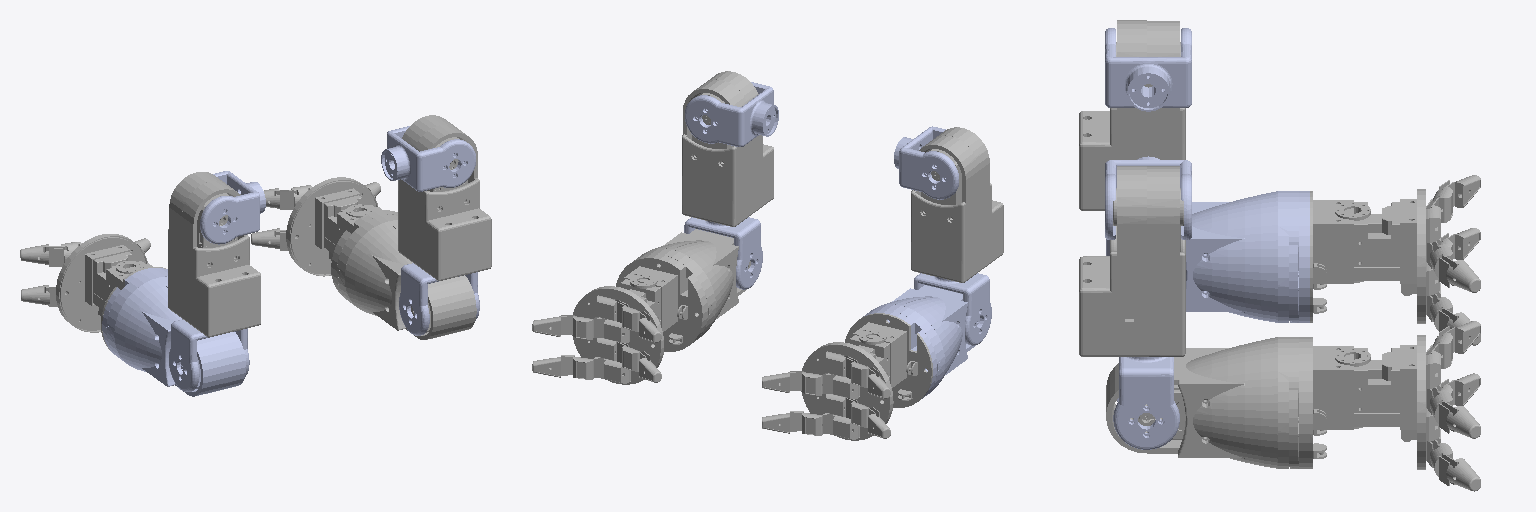
The robot description file, URDF, robot "flov2withhead":
<?xml version="1.0" encoding="utf-8" ?>
<!-- This URDF was automatically created by SolidWorks to URDF Exporter! Originally created by [author] ([email redacted]) 
     Commit Version: 1.6.0-4-g7f85cfe  Build Version: 1.6.7995.38578
     For more information, please see http://wiki.ros.org/sw_urdf_exporter -->
<robot name="flov2withhead">
    <link name="world" />
    <joint name="base_joint" type="fixed">
        <parent link="world" />
        <child link="base_link" />
        <origin rpy="0 0 0" xyz="0.0 0.0 0.1" />
    </joint>
    <link name="base_link">
        <inertial>
            <origin xyz="0.000332986357958864 -0.0490077292447268 0.105556782027294" rpy="0 0 0" />
            <mass value="0.43756903741599" />
            <inertia ixx="0.000780171626162873" ixy="1.78319073788055E-06" ixz="-8.96254823202409E-08" iyy="0.000825845046347988" iyz="4.67149960643232E-05" izz="0.000643184217394053" />
        </inertial>
        <visual>
            <origin xyz="0 0 0" rpy="0 0 0" />
            <geometry>
                <mesh filename="package://flov2withhead/meshes/base_link.STL" />
            </geometry>
            <material name="">
                <color rgba="1 1 1 1" />
            </material>
        </visual>
        <collision>
            <origin xyz="0 0 0" rpy="0 0 0" />
            <geometry>
                <mesh filename="package://flov2withhead/meshes/base_link.STL" />
            </geometry>
        </collision>
    </link>
    <link name="right_up_joint">
        <inertial>
            <origin xyz="-2.91433543964104E-16 2.85966278434913E-10 -0.0157092650737859" rpy="0 0 0" />
            <mass value="0.0208133461311658" />
            <inertia ixx="6.27974950942356E-06" ixy="-1.309072641164E-11" ixz="-1.33567837580187E-19" iyy="1.11423798107525E-05" iyz="4.94677580335037E-14" izz="8.21355248400432E-06" />
        </inertial>
        <visual>
            <origin xyz="0 0 0" rpy="0 0 0" />
            <geometry>
                <mesh filename="package://flov2withhead/meshes/right_up_joint.STL" />
            </geometry>
            <material name="">
                <color rgba="0.792156862745098 0.819607843137255 0.933333333333333 1" />
            </material>
        </visual>
        <collision>
            <origin xyz="0 0 0" rpy="0 0 0" />
            <geometry>
                <mesh filename="package://flov2withhead/meshes/right_up_joint.STL" />
            </geometry>
        </collision>
    </link>
    <joint name="r1" type="revolute">
        <origin xyz="0.093161 -0.051062 0.13081" rpy="1.5708 0 1.5708" />
        <parent link="base_link" />
        <child link="right_up_joint" />
        <axis xyz="0 0 1" />
        <limit lower="-3.14" upper="3.14" effort="100" velocity="1" />
    </joint>
    <link name="right_up_arm">
        <inertial>
            <origin xyz="0.0373903260955438 6.01721482870188E-05 -0.00541151025560823" rpy="0 0 0" />
            <mass value="0.142004365290477" />
            <inertia ixx="3.19807239576316E-05" ixy="-4.35320002639266E-08" ixz="2.24405433812137E-06" iyy="6.16421105939791E-05" iyz="9.81629533551443E-10" izz="6.84742764155622E-05" />
        </inertial>
        <visual>
            <origin xyz="0 0 0" rpy="0 0 0" />
            <geometry>
                <mesh filename="package://flov2withhead/meshes/right_up_arm.STL" />
            </geometry>
            <material name="">
                <color rgba="0.752941176470588 0.752941176470588 0.752941176470588 1" />
            </material>
        </visual>
        <collision>
            <origin xyz="0 0 0" rpy="0 0 0" />
            <geometry>
                <mesh filename="package://flov2withhead/meshes/right_up_arm.STL" />
            </geometry>
        </collision>
    </link>
    <joint name="r2" type="revolute">
        <origin xyz="0 0 0" rpy="-1.5708 0 -1.5708" />
        <parent link="right_up_joint" />
        <child link="right_up_arm" />
        <axis xyz="0 0 -1" />
        <limit lower="-3.14" upper="3.14" effort="100" velocity="1" />
    </joint>
    <link name="right_low_joint">
        <inertial>
            <origin xyz="5.09595365905113E-10 7.24041483018967E-10 -0.0157092653420774" rpy="0 0 0" />
            <mass value="0.0208133468453591" />
            <inertia ixx="6.27974968154285E-06" ixy="-1.32343047836009E-11" ixz="8.95774143766885E-14" iyy="1.11423800240112E-05" iyz="1.27944096161508E-13" izz="8.2135527700594E-06" />
        </inertial>
        <visual>
            <origin xyz="0 0 0" rpy="0 0 0" />
            <geometry>
                <mesh filename="package://flov2withhead/meshes/right_low_joint.STL" />
            </geometry>
            <material name="">
                <color rgba="0.792156862745098 0.819607843137255 0.933333333333333 1" />
            </material>
        </visual>
        <collision>
            <origin xyz="0 0 0" rpy="0 0 0" />
            <geometry>
                <mesh filename="package://flov2withhead/meshes/right_low_joint.STL" />
            </geometry>
        </collision>
    </link>
    <joint name="r3" type="revolute">
        <origin xyz="0.1168 0 -0.001" rpy="-1.5708 3.1416 -1.5708" />
        <parent link="right_up_arm" />
        <child link="right_low_joint" />
        <axis xyz="0 0 1" />
        <limit lower="-3.14" upper="3.14" effort="100" velocity="1" />
    </joint>
    <link name="right_low_arm">
        <inertial>
            <origin xyz="0.000145349481928403 0.0481196277392878 0.00014102129578708" rpy="0 0 0" />
            <mass value="0.18903364369622" />
            <inertia ixx="8.21074310058178E-05" ixy="3.38641336425157E-07" ixz="5.51403520464928E-07" iyy="7.6979741225698E-05" iyz="-3.25828337646132E-09" izz="0.000103326261719523" />
        </inertial>
        <visual>
            <origin xyz="0 0 0" rpy="0 0 0" />
            <geometry>
                <mesh filename="package://flov2withhead/meshes/right_low_arm.STL" />
            </geometry>
            <material name="">
                <color rgba="0.752941176470588 0.752941176470588 0.752941176470588 1" />
            </material>
        </visual>
        <collision>
            <origin xyz="0 0 0" rpy="0 0 0" />
            <geometry>
                <mesh filename="package://flov2withhead/meshes/right_low_arm.STL" />
            </geometry>
        </collision>
    </link>
    <joint name="r4" type="revolute">
        <origin xyz="0 0 0" rpy="0 -1.5708 0" />
        <parent link="right_low_joint" />
        <child link="right_low_arm" />
        <axis xyz="0 0 -1" />
        <limit lower="-3.14" upper="3.14" effort="100" velocity="1" />
    </joint>
    <link name="right_gripper">
        <inertial>
            <origin xyz="0.00394028289479387 0.00064862667470067 -0.0216328066989445" rpy="0 0 0" />
            <mass value="0.103299324219439" />
            <inertia ixx="2.0963004369683E-05" ixy="2.90752267814511E-08" ixz="-3.12167035365807E-07" iyy="1.89319959235232E-05" iyz="1.75561004581691E-08" izz="2.33522908570637E-05" />
        </inertial>
        <visual>
            <origin xyz="0 0 0" rpy="0 0 0" />
            <geometry>
                <mesh filename="package://flov2withhead/meshes/right_gripper.STL" />
            </geometry>
            <material name="">
                <color rgba="0.752941176470588 0.752941176470588 0.752941176470588 1" />
            </material>
        </visual>
        <collision>
            <origin xyz="0 0 0" rpy="0 0 0" />
            <geometry>
                <mesh filename="package://flov2withhead/meshes/right_gripper.STL" />
            </geometry>
        </collision>
    </link>
    <joint name="r5" type="fixed">
        <origin xyz="-0.00025 0.15114 -0.0005" rpy="1.5708 0 -3.1416" />
        <parent link="right_low_arm" />
        <child link="right_gripper" />
        <axis xyz="0 0 0" />
    </joint>
    <link name="left_up_joint">
        <inertial>
            <origin xyz="-5.09595414477371E-10 -7.24041493427308E-10 -0.0157092653420774" rpy="0 0 0" />
            <mass value="0.0208133468453592" />
            <inertia ixx="6.27974968154286E-06" ixy="-1.32343047800843E-11" ixz="-8.95773981717079E-14" iyy="1.11423800240112E-05" iyz="-1.27944099168652E-13" izz="8.2135527700594E-06" />
        </inertial>
        <visual>
            <origin xyz="0 0 0" rpy="0 0 0" />
            <geometry>
                <mesh filename="package://flov2withhead/meshes/left_up_joint.STL" />
            </geometry>
            <material name="">
                <color rgba="0.792156862745098 0.819607843137255 0.933333333333333 1" />
            </material>
        </visual>
        <collision>
            <origin xyz="0 0 0" rpy="0 0 0" />
            <geometry>
                <mesh filename="package://flov2withhead/meshes/left_up_joint.STL" />
            </geometry>
        </collision>
    </link>
    <joint name="l1" type="revolute">
        <origin xyz="-0.093439 -0.051062 0.13073" rpy="-1.5708 0 1.5708" />
        <parent link="base_link" />
        <child link="left_up_joint" />
        <axis xyz="0 0 1" />
        <limit lower="-3.14" upper="3.14" effort="100" velocity="1" />
    </joint>
    <link name="left_up_arm">
        <inertial>
            <origin xyz="0.0373903260955436 6.01721482860196E-05 -0.00541151025560805" rpy="0 0 0" />
            <mass value="0.142004365290478" />
            <inertia ixx="3.19807239576317E-05" ixy="-4.35320002639321E-08" ixz="2.24405433812145E-06" iyy="6.16421105939794E-05" iyz="9.81629533563045E-10" izz="6.84742764155626E-05" />
        </inertial>
        <visual>
            <origin xyz="0 0 0" rpy="0 0 0" />
            <geometry>
                <mesh filename="package://flov2withhead/meshes/left_up_arm.STL" />
            </geometry>
            <material name="">
                <color rgba="0.752941176470588 0.752941176470588 0.752941176470588 1" />
            </material>
        </visual>
        <collision>
            <origin xyz="0 0 0" rpy="0 0 0" />
            <geometry>
                <mesh filename="package://flov2withhead/meshes/left_up_arm.STL" />
            </geometry>
        </collision>
    </link>
    <joint name="l2" type="revolute">
        <origin xyz="0 0 0" rpy="1.5708 0 1.5708" />
        <parent link="left_up_joint" />
        <child link="left_up_arm" />
        <axis xyz="0 0 -1" />
        <limit lower="-3.14" upper="3.14" effort="100" velocity="1" />
    </joint>
    <link name="left_low_joint">
        <inertial>
            <origin xyz="3.33066907387547E-16 -2.85966288843253E-10 -0.0157092652592568" rpy="0 0 0" />
            <mass value="0.020813346595942" />
            <inertia ixx="6.27974962192809E-06" ixy="-1.299668323255E-11" ixz="1.37075684826591E-19" iyy="1.11423799559868E-05" iyz="-4.94677647665731E-14" izz="8.21355267329983E-06" />
        </inertial>
        <visual>
            <origin xyz="0 0 0" rpy="0 0 0" />
            <geometry>
                <mesh filename="package://flov2withhead/meshes/left_low_joint.STL" />
            </geometry>
            <material name="">
                <color rgba="0.792156862745098 0.819607843137255 0.933333333333333 1" />
            </material>
        </visual>
        <collision>
            <origin xyz="0 0 0" rpy="0 0 0" />
            <geometry>
                <mesh filename="package://flov2withhead/meshes/left_low_joint.STL" />
            </geometry>
        </collision>
    </link>
    <joint name="l3" type="revolute">
        <origin xyz="0.1168 0 -0.001" rpy="-1.5708 -0.00041194 -1.5708" />
        <parent link="left_up_arm" />
        <child link="left_low_joint" />
        <axis xyz="0 0 1" />
        <limit lower="-3.14" upper="3.14" effort="100" velocity="1" />
    </joint>
    <link name="left_low_arm">
        <inertial>
            <origin xyz="0.043346958830631 0.00142716576173002 0.000127034419044603" rpy="0 0 0" />
            <mass value="0.209846986735207" />
            <inertia ixx="8.81221220824941E-05" ixy="-3.38638689228225E-07" ixz="-3.24430454510159E-09" iyy="9.03209751186225E-05" iyz="-5.5140270825282E-07" izz="0.000109606003998859" />
        </inertial>
        <visual>
            <origin xyz="0 0 0" rpy="0 0 0" />
            <geometry>
                <mesh filename="package://flov2withhead/meshes/left_low_arm.STL" />
            </geometry>
            <material name="">
                <color rgba="0.792156862745098 0.819607843137255 0.933333333333333 1" />
            </material>
        </visual>
        <collision>
            <origin xyz="0 0 0" rpy="0 0 0" />
            <geometry>
                <mesh filename="package://flov2withhead/meshes/left_low_arm.STL" />
            </geometry>
        </collision>
    </link>
    <joint name="l4" type="revolute">
        <origin xyz="0 0 0" rpy="-1.5708 0 -1.5708" />
        <parent link="left_low_joint" />
        <child link="left_low_arm" />
        <axis xyz="0 0 -1" />
        <limit lower="-3.14" upper="3.14" effort="100" velocity="1" />
    </joint>
    <link name="left_gripper">
        <inertial>
            <origin xyz="0.00394028289446374 -0.0216325376678417 -0.000657538050742756" rpy="0 0 0" />
            <mass value="0.103299324213466" />
            <inertia ixx="2.09630043696132E-05" ixy="-3.12155031601794E-07" ixz="-2.92038185590857E-08" iyy="2.33523045708948E-05" iyz="-1.57351963002981E-08" izz="1.89319822093977E-05" />
        </inertial>
        <visual>
            <origin xyz="0 0 0" rpy="0 0 0" />
            <geometry>
                <mesh filename="package://flov2withhead/meshes/left_gripper.STL" />
            </geometry>
            <material name="">
                <color rgba="0.752941176470588 0.752941176470588 0.752941176470588 1" />
            </material>
        </visual>
        <collision>
            <origin xyz="0 0 0" rpy="0 0 0" />
            <geometry>
                <mesh filename="package://flov2withhead/meshes/left_gripper.STL" />
            </geometry>
        </collision>
    </link>
    <joint name="l5" type="fixed">
        <origin xyz="0.15114 0.00025 -0.0005" rpy="3.1412 0 1.5708" />
        <parent link="left_low_arm" />
        <child link="left_gripper" />
        <axis xyz="0 0 0" />
    </joint>
    <transmission name="left_up_joint_trans">
        <type>transmission_interface/SimpleTransmission</type>
        <joint name="l1">
            <hardwareInterface>hardware_interface/PositionJointInterface</hardwareInterface>
        </joint>
        <actuator name="left_up_joint_motor">
            <hardwareInterface>hardware_interface/PositionJointInterface</hardwareInterface>
            <mechanicalReduction>1</mechanicalReduction>
        </actuator>
    </transmission>
    <transmission name="left_up_arm_trans">
        <type>transmission_interface/SimpleTransmission</type>
        <joint name="l2">
            <hardwareInterface>hardware_interface/PositionJointInterface</hardwareInterface>
        </joint>
        <actuator name="left_up_arm_motor">
            <hardwareInterface>hardware_interface/PositionJointInterface</hardwareInterface>
            <mechanicalReduction>1</mechanicalReduction>
        </actuator>
    </transmission>
    <transmission name="left_low_joint_trans">
        <type>transmission_interface/SimpleTransmission</type>
        <joint name="l3">
            <hardwareInterface>hardware_interface/PositionJointInterface</hardwareInterface>
        </joint>
        <actuator name="left_low_joint_motor">
            <hardwareInterface>hardware_interface/PositionJointInterface</hardwareInterface>
            <mechanicalReduction>1</mechanicalReduction>
        </actuator>
    </transmission>
    <transmission name="left_low_arm_trans">
        <type>transmission_interface/SimpleTransmission</type>
        <joint name="l4">
            <hardwareInterface>hardware_interface/PositionJointInterface</hardwareInterface>
        </joint>
        <actuator name="left_low_arm_motor">
            <hardwareInterface>hardware_interface/PositionJointInterface</hardwareInterface>
            <mechanicalReduction>1</mechanicalReduction>
        </actuator>
    </transmission>
    <transmission name="right_up_joint_trans">
        <type>transmission_interface/SimpleTransmission</type>
        <joint name="r1">
            <hardwareInterface>hardware_interface/PositionJointInterface</hardwareInterface>
        </joint>
        <actuator name="right_up_joint_motor">
            <hardwareInterface>hardware_interface/PositionJointInterface</hardwareInterface>
            <mechanicalReduction>1</mechanicalReduction>
        </actuator>
    </transmission>
    <transmission name="right_up_arm_trans">
        <type>transmission_interface/SimpleTransmission</type>
        <joint name="r2">
            <hardwareInterface>hardware_interface/PositionJointInterface</hardwareInterface>
        </joint>
        <actuator name="right_up_arm_motor">
            <hardwareInterface>hardware_interface/PositionJointInterface</hardwareInterface>
            <mechanicalReduction>1</mechanicalReduction>
        </actuator>
    </transmission>
    <transmission name="right_low_joint_trans">
        <type>transmission_interface/SimpleTransmission</type>
        <joint name="r3">
            <hardwareInterface>hardware_interface/PositionJointInterface</hardwareInterface>
        </joint>
        <actuator name="right_low_joint_motor">
            <hardwareInterface>hardware_interface/PositionJointInterface</hardwareInterface>
            <mechanicalReduction>1</mechanicalReduction>
        </actuator>
    </transmission>
    <transmission name="right_low_arm_trans">
        <type>transmission_interface/SimpleTransmission</type>
        <joint name="r4">
            <hardwareInterface>hardware_interface/PositionJointInterface</hardwareInterface>
        </joint>
        <actuator name="right_low_arm_motor">
            <hardwareInterface>hardware_interface/PositionJointInterface</hardwareInterface>
            <mechanicalReduction>1</mechanicalReduction>
        </actuator>
    </transmission>
    <gazebo>
        <plugin name="control" filename="libgazebo_ros_control.so">
            <robotNamespace>/</robotNamespace>
        </plugin>
        <plugin name="gazebo_ros_control" filename="libgazebo_ros_control.so">
            <robotNamespace>/</robotNamespace>
        </plugin>
    </gazebo>
    <gazebo reference="left_up_joint">
        <selfCollide>true</selfCollide>
    </gazebo>
    <gazebo reference="left_up_arm">
        <selfCollide>true</selfCollide>
    </gazebo>
    <gazebo reference="left_low_joint">
        <selfCollide>true</selfCollide>
    </gazebo>
    <gazebo reference="left_low_arm">
        <selfCollide>true</selfCollide>
    </gazebo>
    <gazebo reference="left_gripper">
        <selfCollide>true</selfCollide>
    </gazebo>
    <gazebo reference="right_up_joint">
        <selfCollide>true</selfCollide>
    </gazebo>
    <gazebo reference="right_up_arm">
        <selfCollide>true</selfCollide>
    </gazebo>
    <gazebo reference="right_low_joint">
        <selfCollide>true</selfCollide>
    </gazebo>
    <gazebo reference="right_low_arm">
        <selfCollide>true</selfCollide>
    </gazebo>
    <gazebo reference="right_gripper">
        <selfCollide>true</selfCollide>
    </gazebo>
</robot>

--- Facts derived from the render (not from the file) ---
The picture shows the robot from 3 angles, left to right: view 1: azimuth 30°, elevation 25°; view 2: azimuth 150°, elevation 25°; view 3: azimuth 270°, elevation 25°; orthographic projection.
Robot: flov2withhead — 12 links, 11 joints (8 revolute, 3 fixed); root link world; default pose: all joints at 0.
Visible links, largest first — view 1: left_up_arm, right_up_arm, left_low_arm, right_low_arm, left_gripper, right_gripper, right_up_joint, left_up_joint, right_low_joint, left_low_joint; view 2: right_gripper, left_gripper, left_up_arm, right_up_arm, right_low_arm, left_low_arm, right_up_joint, left_up_joint, right_low_joint, left_low_joint; view 3: right_low_arm, right_up_arm, right_gripper, left_gripper, left_low_arm, left_up_arm, left_up_joint, right_low_joint, right_up_joint.
Boxes of the visible links, bbox=[...] form: left_up_arm: bbox=[168, 172, 260, 337]; right_up_arm: bbox=[398, 115, 491, 280]; left_low_arm: bbox=[102, 268, 245, 396]; right_low_arm: bbox=[333, 211, 476, 339]; left_gripper: bbox=[20, 234, 165, 349]; right_gripper: bbox=[251, 177, 397, 292]; right_up_joint: bbox=[381, 126, 475, 191]; left_up_joint: bbox=[200, 171, 265, 244]; right_low_joint: bbox=[399, 263, 479, 335]; left_low_joint: bbox=[169, 319, 249, 391]; right_gripper: bbox=[532, 257, 703, 384]; left_gripper: bbox=[762, 313, 932, 440]; left_up_arm: bbox=[911, 127, 1003, 282]; right_up_arm: bbox=[682, 71, 773, 226]; right_low_arm: bbox=[634, 229, 750, 342]; left_low_arm: bbox=[863, 285, 979, 398]; right_up_joint: bbox=[685, 82, 778, 146]; left_up_joint: bbox=[894, 126, 958, 199]; right_low_joint: bbox=[684, 217, 762, 289]; left_low_joint: bbox=[914, 273, 991, 345]; right_low_arm: bbox=[1106, 337, 1309, 468]; right_up_arm: bbox=[1079, 166, 1185, 356]; right_gripper: bbox=[1310, 321, 1480, 491]; left_gripper: bbox=[1310, 175, 1480, 345]; left_low_arm: bbox=[1106, 191, 1309, 322]; left_up_arm: bbox=[1079, 20, 1185, 210]; left_up_joint: bbox=[1105, 28, 1191, 111]; right_low_joint: bbox=[1113, 357, 1179, 449]; right_up_joint: bbox=[1105, 156, 1191, 239].
Bounding box of the posed robot: 0.2919 × 0.2171 × 0.1751 m (x, y, z).
Meshes: 11 distinct files referenced, 10 mesh visuals loaded (10 binary STL); not drawn: 1 (reference not matched to a file when rendering).